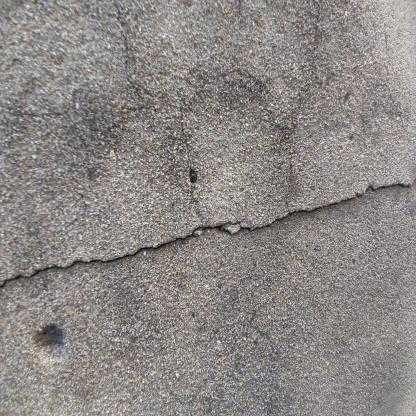crack: (0, 183, 409, 287)
